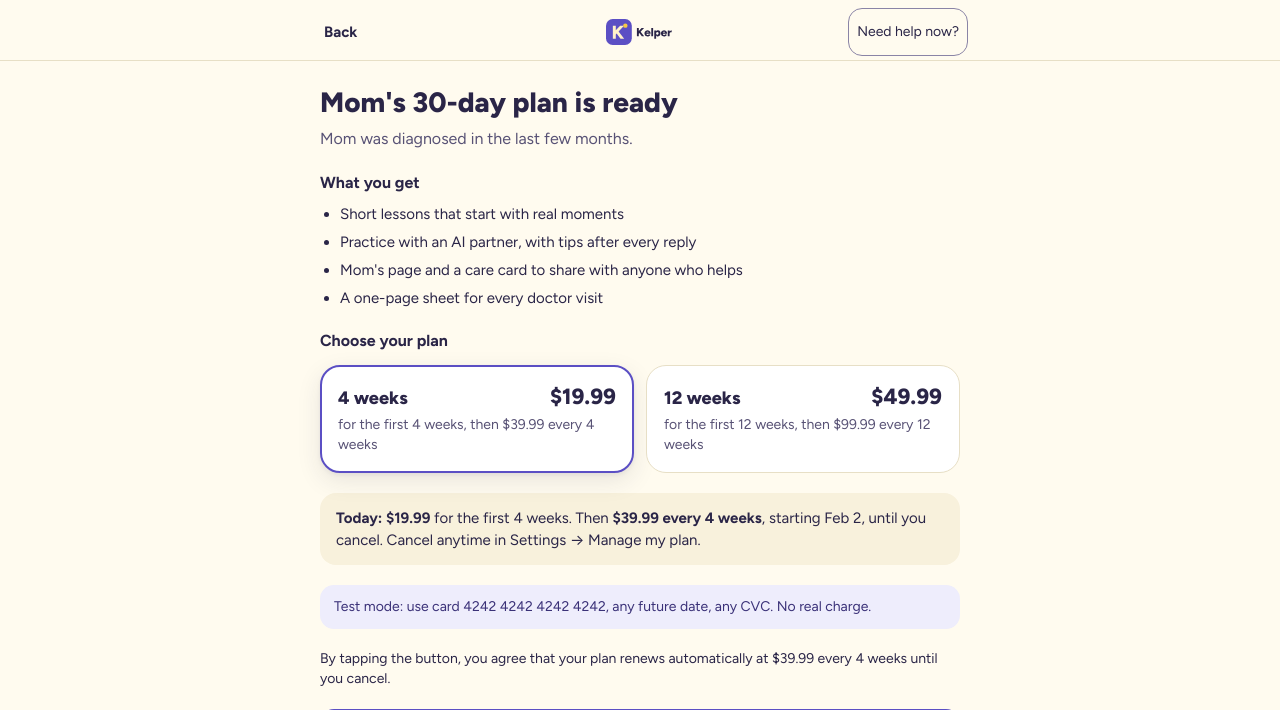
PaywallPage › preselects the default plan and updates terms and Pay label on switch
The image size is (1280, 710).
Expected: the heading "Mom's 30-day plan is ready" is shown, [320,85,678,119]
Expected: the radio button labelled "4 weeks" is checked, [320,365,634,473]
Click the radio button labelled "12 weeks" at [803, 419], box [646,365,960,473]
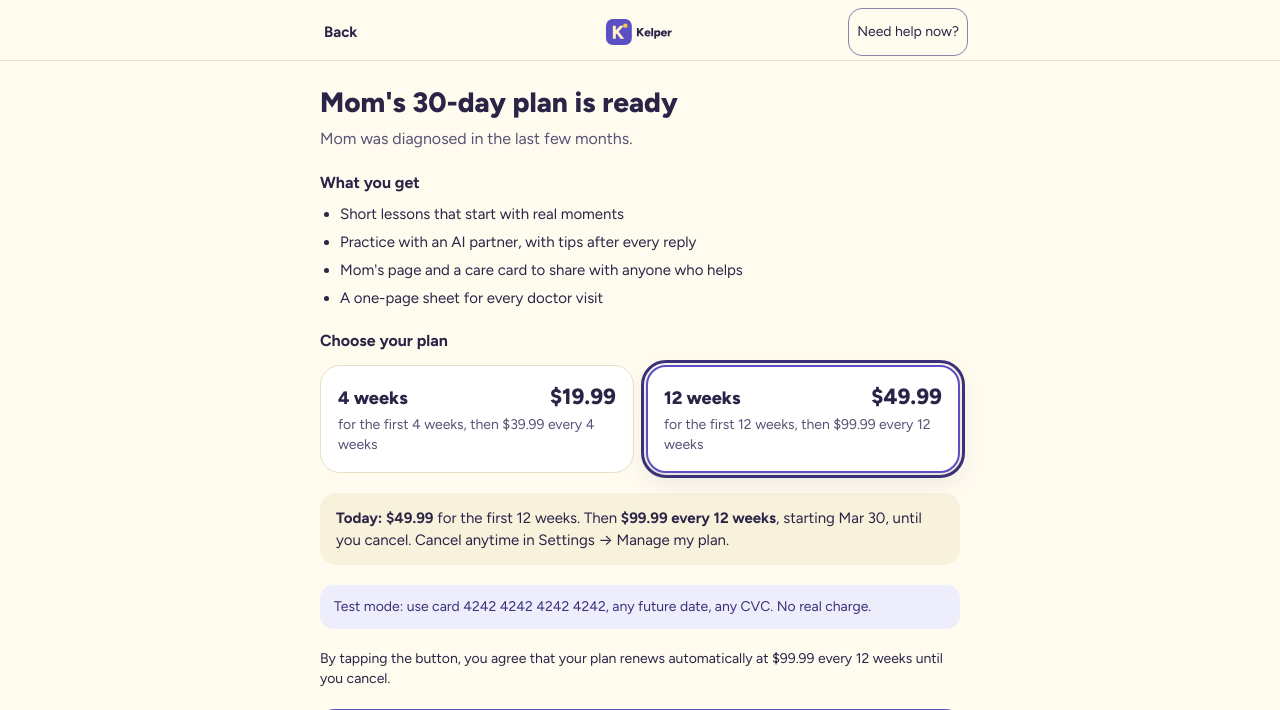
Now the text "By tapping the button, you agree that your plan renews automatically at $99.99 every 12 weeks until you cancel." is shown, box [320,650,943,687]
Now the text "Today: $49.99" is shown, box [336,509,434,527]
